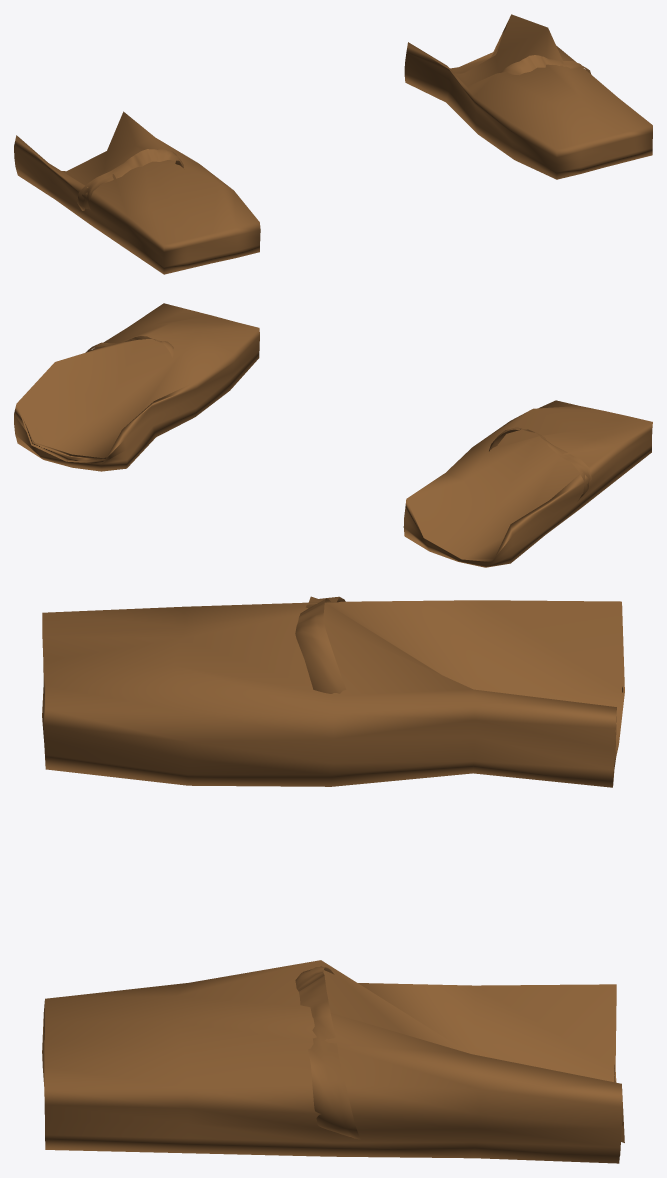
The model's file is geta.glb.
3 renders of one model, top to bottom at view 1: azimuth 30°, elevation 25°; view 2: azimuth 150°, elevation 25°; view 3: azimuth 270°, elevation 25°, orthographic. The views are drawn at different scales.
Visible parts, largest first — view 1: geta; view 2: geta; view 3: geta.
Boxes of the visible parts, x1,y1,x2,y2 form: geta: (14, 14, 652, 274); geta: (14, 303, 652, 567); geta: (42, 596, 624, 1163).
Size of the model in its own units: 0.5267 by 0.0782 by 0.2625.
